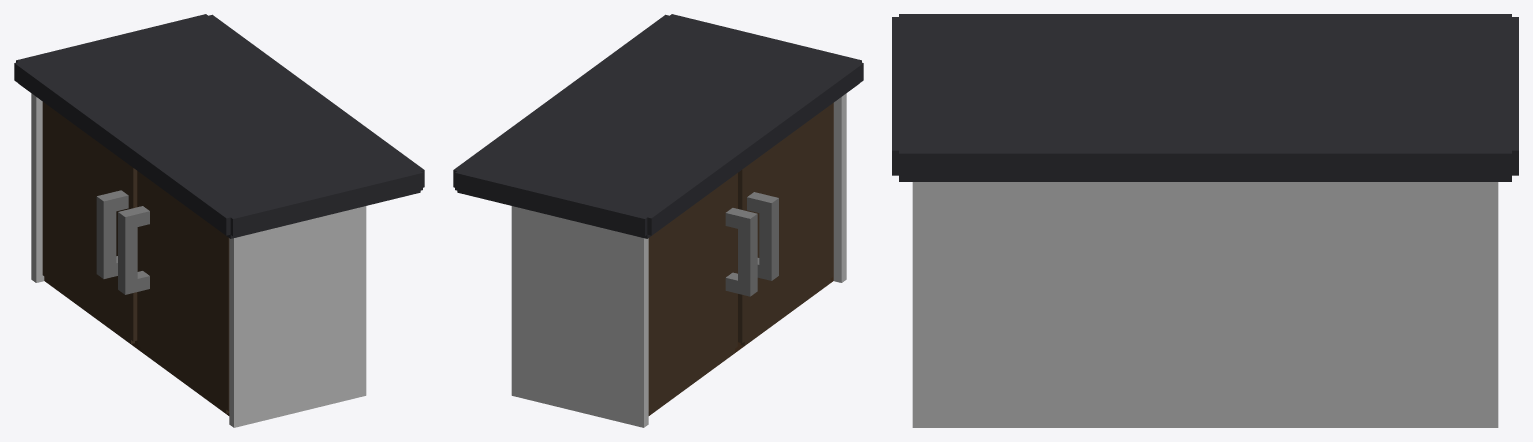
File: kitchentbenches-1.obj
3 views of the same model, side by side, from view 1: azimuth 30°, elevation 25°; view 2: azimuth 150°, elevation 25°; view 3: azimuth 270°, elevation 25° (orthographic). The views are drawn at different scales.
Bounding box in the file's own units: 5 × 5 × 9.1.
Materials: 1 (1 with a texture image).
